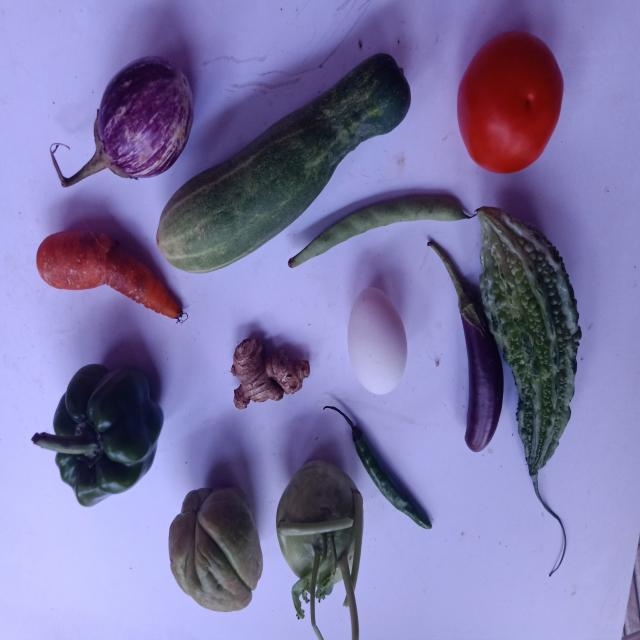Beans: (288, 194, 471, 267)
Bitter Gourd: (478, 206, 582, 478)
Brinjal: (0, 0, 640, 639), (428, 240, 504, 452)
Capsicum: (31, 364, 163, 506)
Carrot: (36, 230, 182, 318)
Chayote: (203, 561, 206, 566)
Cucumber: (156, 52, 411, 272)
Egg: (348, 287, 408, 395), (231, 339, 310, 409)
Eggplant: (50, 55, 193, 186)
Ginger: (276, 461, 364, 640), (231, 339, 310, 409)
Green Chilly: (324, 406, 432, 529)
Tomato: (458, 30, 565, 172)
Turnip: (168, 488, 263, 612), (318, 484, 320, 487)
